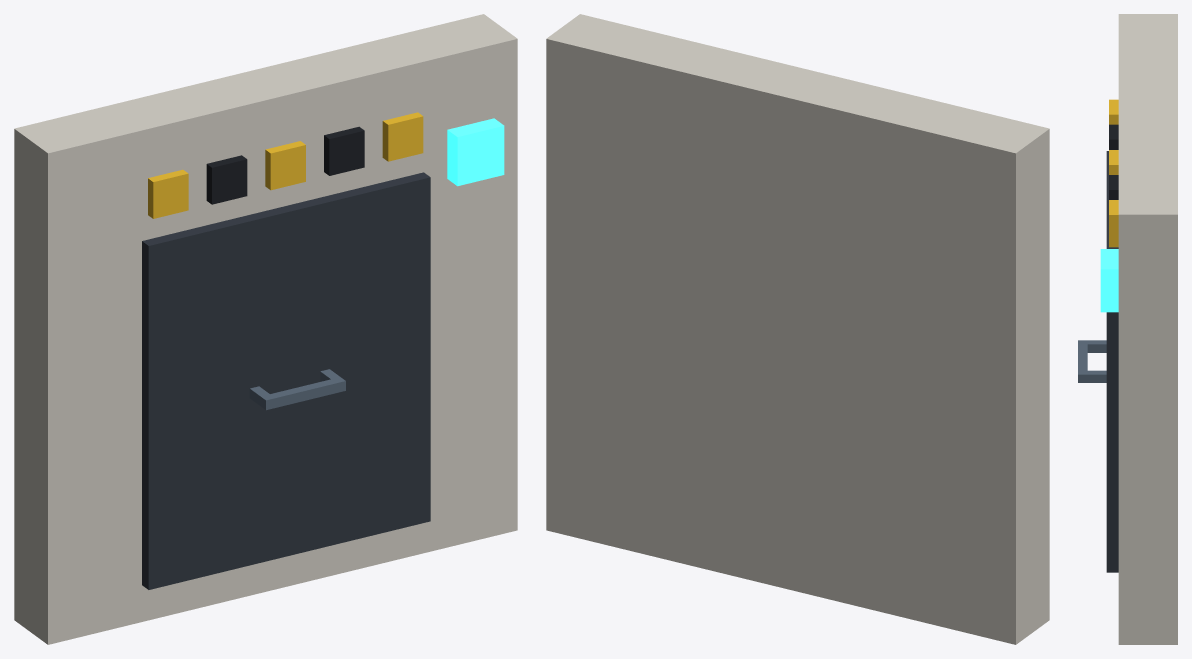
The model's file is robot_hatch_door.glb.
3 views of the same model, side by side, from view 1: azimuth 30°, elevation 25°; view 2: azimuth 150°, elevation 25°; view 3: azimuth 270°, elevation 25° (orthographic). The views are drawn at different scales.
Parts seen in each view (by area): view 1: robot_hatch_door_armor, robot_hatch_door_steelDark, robot_hatch_door_yellow, robot_hatch_door_black, robot_hatch_door_glow, robot_hatch_door_steel; view 2: robot_hatch_door_armor; view 3: robot_hatch_door_armor, robot_hatch_door_steelDark, robot_hatch_door_glow, robot_hatch_door_yellow, robot_hatch_door_steel, robot_hatch_door_black.
Part boxes in pixels (x1=…): robot_hatch_door_armor: x1=14, y1=14, x2=517, y2=644; robot_hatch_door_steelDark: x1=142, y1=172, x2=430, y2=589; robot_hatch_door_yellow: x1=148, y1=112, x2=423, y2=218; robot_hatch_door_black: x1=206, y1=126, x2=364, y2=204; robot_hatch_door_glow: x1=447, y1=118, x2=504, y2=186; robot_hatch_door_steel: x1=249, y1=369, x2=345, y2=410; robot_hatch_door_armor: x1=546, y1=14, x2=1049, y2=644; robot_hatch_door_armor: x1=1118, y1=14, x2=1177, y2=644; robot_hatch_door_steelDark: x1=1106, y1=151, x2=1118, y2=572; robot_hatch_door_glow: x1=1100, y1=249, x2=1118, y2=312; robot_hatch_door_yellow: x1=1109, y1=99, x2=1118, y2=247; robot_hatch_door_steel: x1=1078, y1=340, x2=1106, y2=382; robot_hatch_door_black: x1=1109, y1=124, x2=1118, y2=199.
Size of the model in its own units: 4 by 4 by 0.84.
